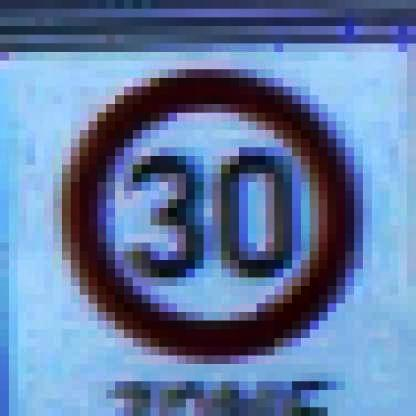Speed Limit -30-: (55, 67, 364, 368)
